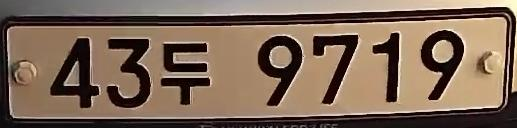1: (364, 26, 413, 109)
3: (102, 31, 157, 111)
4: (45, 31, 106, 114)
7: (307, 27, 362, 108)
9: (412, 25, 474, 103), (252, 32, 306, 110)
두: (154, 32, 215, 112)
